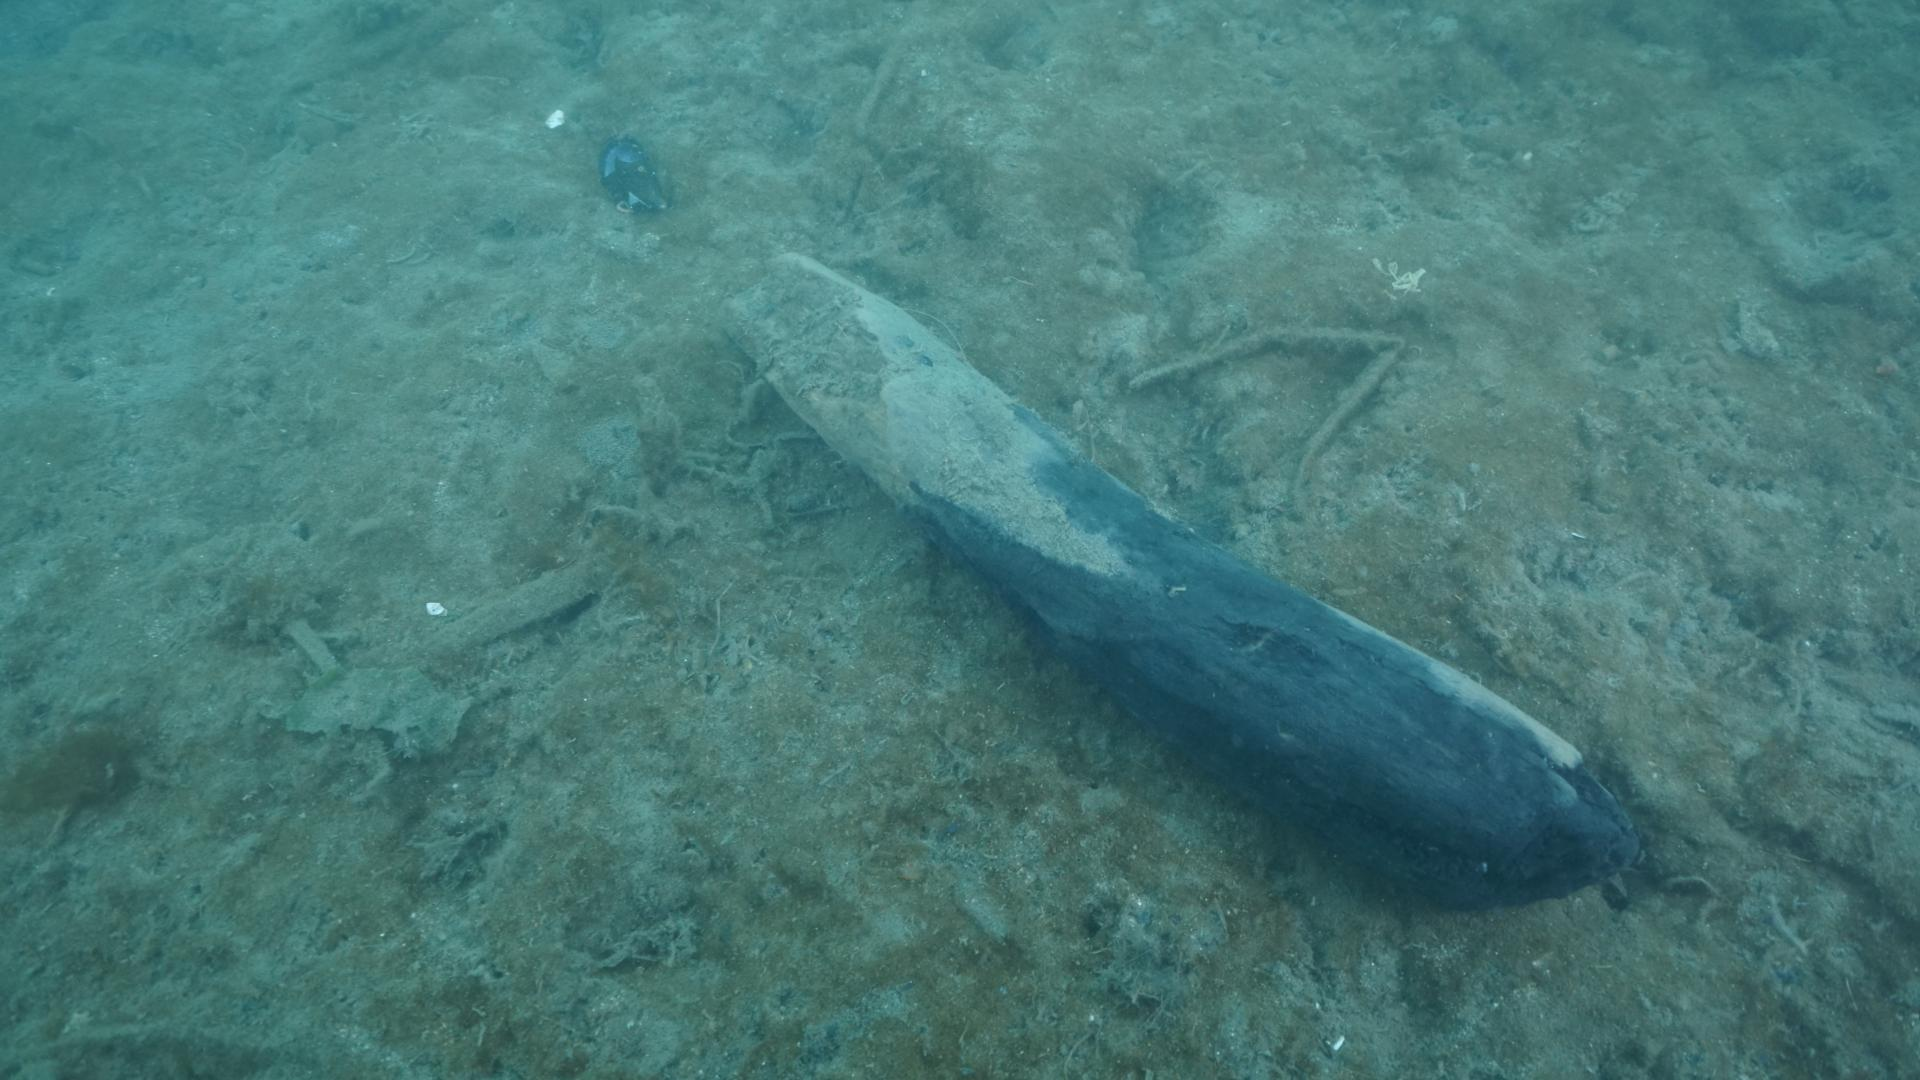wood: (709, 241, 1646, 905)
